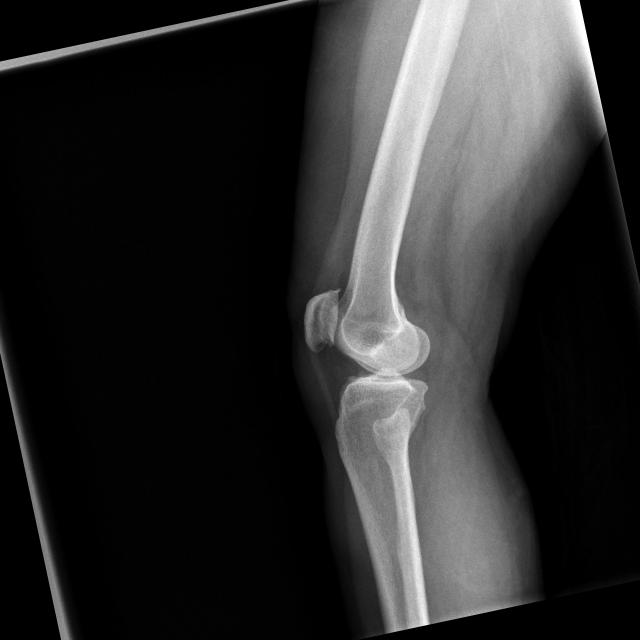Knee: (288, 268, 447, 451)
